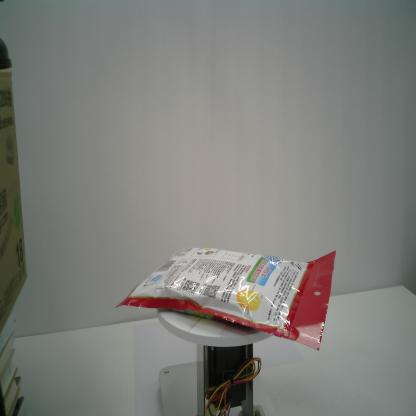Instant Drink: (115, 245, 337, 351)
